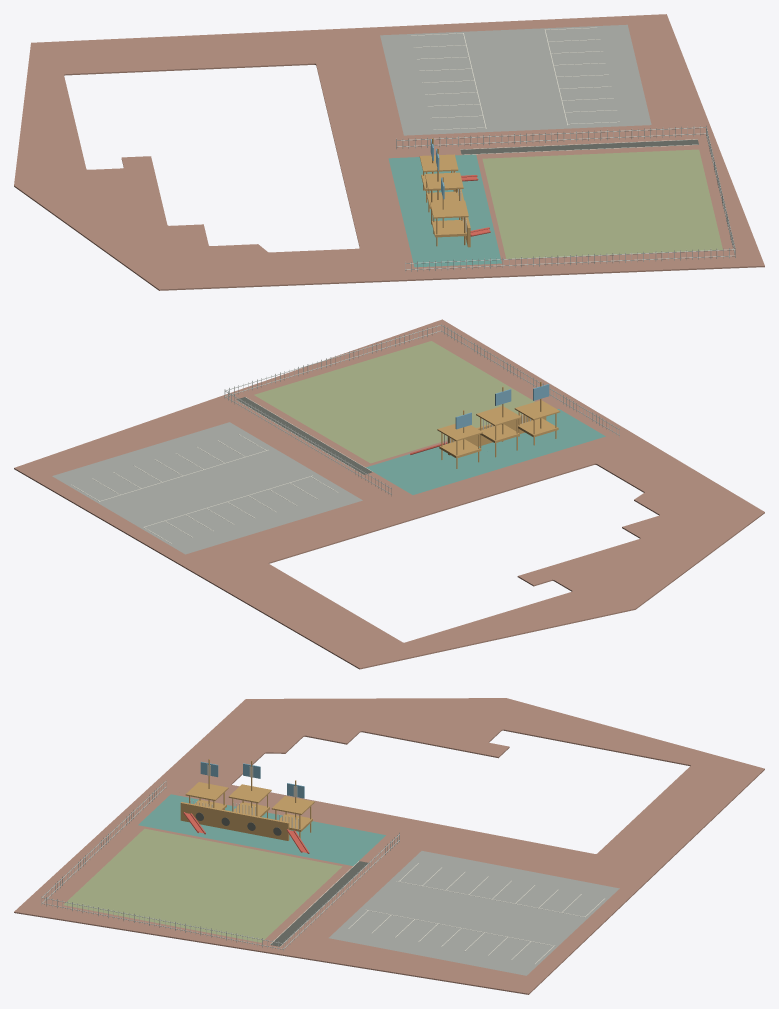
3 views of the same model, one above another, from view 1: azimuth 30°, elevation 25°; view 2: azimuth 150°, elevation 25°; view 3: azimuth 270°, elevation 25° (orthographic). The views are drawn at different scales.
Visible parts, largest first — view 1: N19 terracotta paving site, N19 parking asphalt site, N19 playground grass site, N19 teal playground rubber site, N19 perimeter rail site, N19 play timber site, N19 parking paint site, N19 small running strip site; view 2: N19 terracotta paving site, N19 parking asphalt site, N19 playground grass site, N19 teal playground rubber site, N19 play timber site, N19 perimeter rail site, N19 parking paint site, N19 small running strip site, N19 sail blue site; view 3: N19 terracotta paving site, N19 parking asphalt site, N19 playground grass site, N19 teal playground rubber site, N19 play timber site, N19 perimeter rail site, N19 small running strip site, N19 parking paint site, N19 sail blue site.
Boxes of the visible parts, box(x1,y1,x2,y2) form: N19 terracotta paving site: box(14, 14, 764, 290); N19 parking asphalt site: box(380, 24, 651, 135); N19 playground grass site: box(482, 149, 722, 258); N19 teal playground rubber site: box(388, 154, 501, 267); N19 perimeter rail site: box(396, 125, 735, 271); N19 play timber site: box(419, 138, 470, 247); N19 parking paint site: box(411, 27, 698, 154); N19 small running strip site: box(460, 139, 698, 154); N19 terracotta paving site: box(14, 319, 764, 669); N19 parking asphalt site: box(52, 422, 362, 554); N19 playground grass site: box(254, 341, 534, 463); N19 teal playground rubber site: box(366, 409, 605, 494); N19 play timber site: box(437, 381, 560, 468); N19 perimeter rail site: box(224, 323, 619, 496); N19 parking paint site: box(71, 397, 372, 543); N19 small running strip site: box(236, 397, 372, 474); N19 sail blue site: box(455, 384, 549, 429); N19 terracotta paving site: box(14, 698, 764, 994); N19 parking asphalt site: box(329, 851, 619, 975); N19 playground grass site: box(63, 828, 342, 942); N19 teal playground rubber site: box(138, 794, 385, 865); N19 play timber site: box(180, 759, 314, 840); N19 perimeter rail site: box(41, 779, 399, 951); N19 small running strip site: box(195, 812, 368, 946); N19 parking paint site: box(270, 861, 604, 964); N19 sail blue site: box(200, 761, 304, 798).
Bounding box in the file's own units: 74.03 × 7.56 × 79.45.
